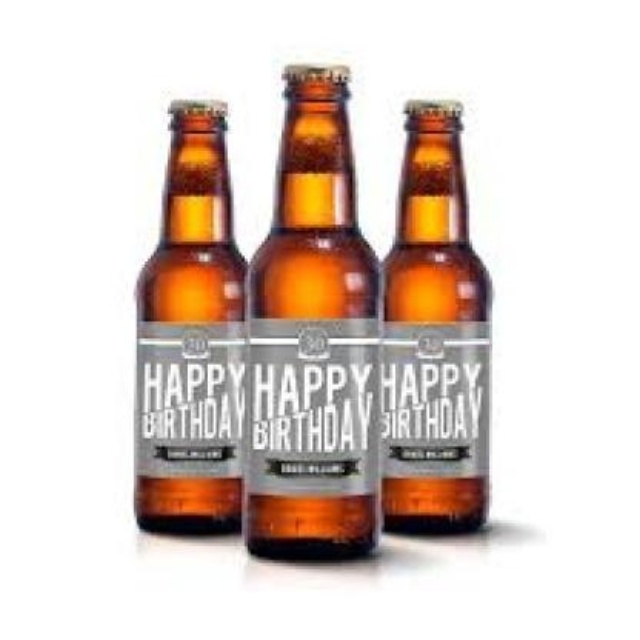trash: (245, 65, 378, 557), (135, 100, 245, 531), (382, 100, 489, 531)
